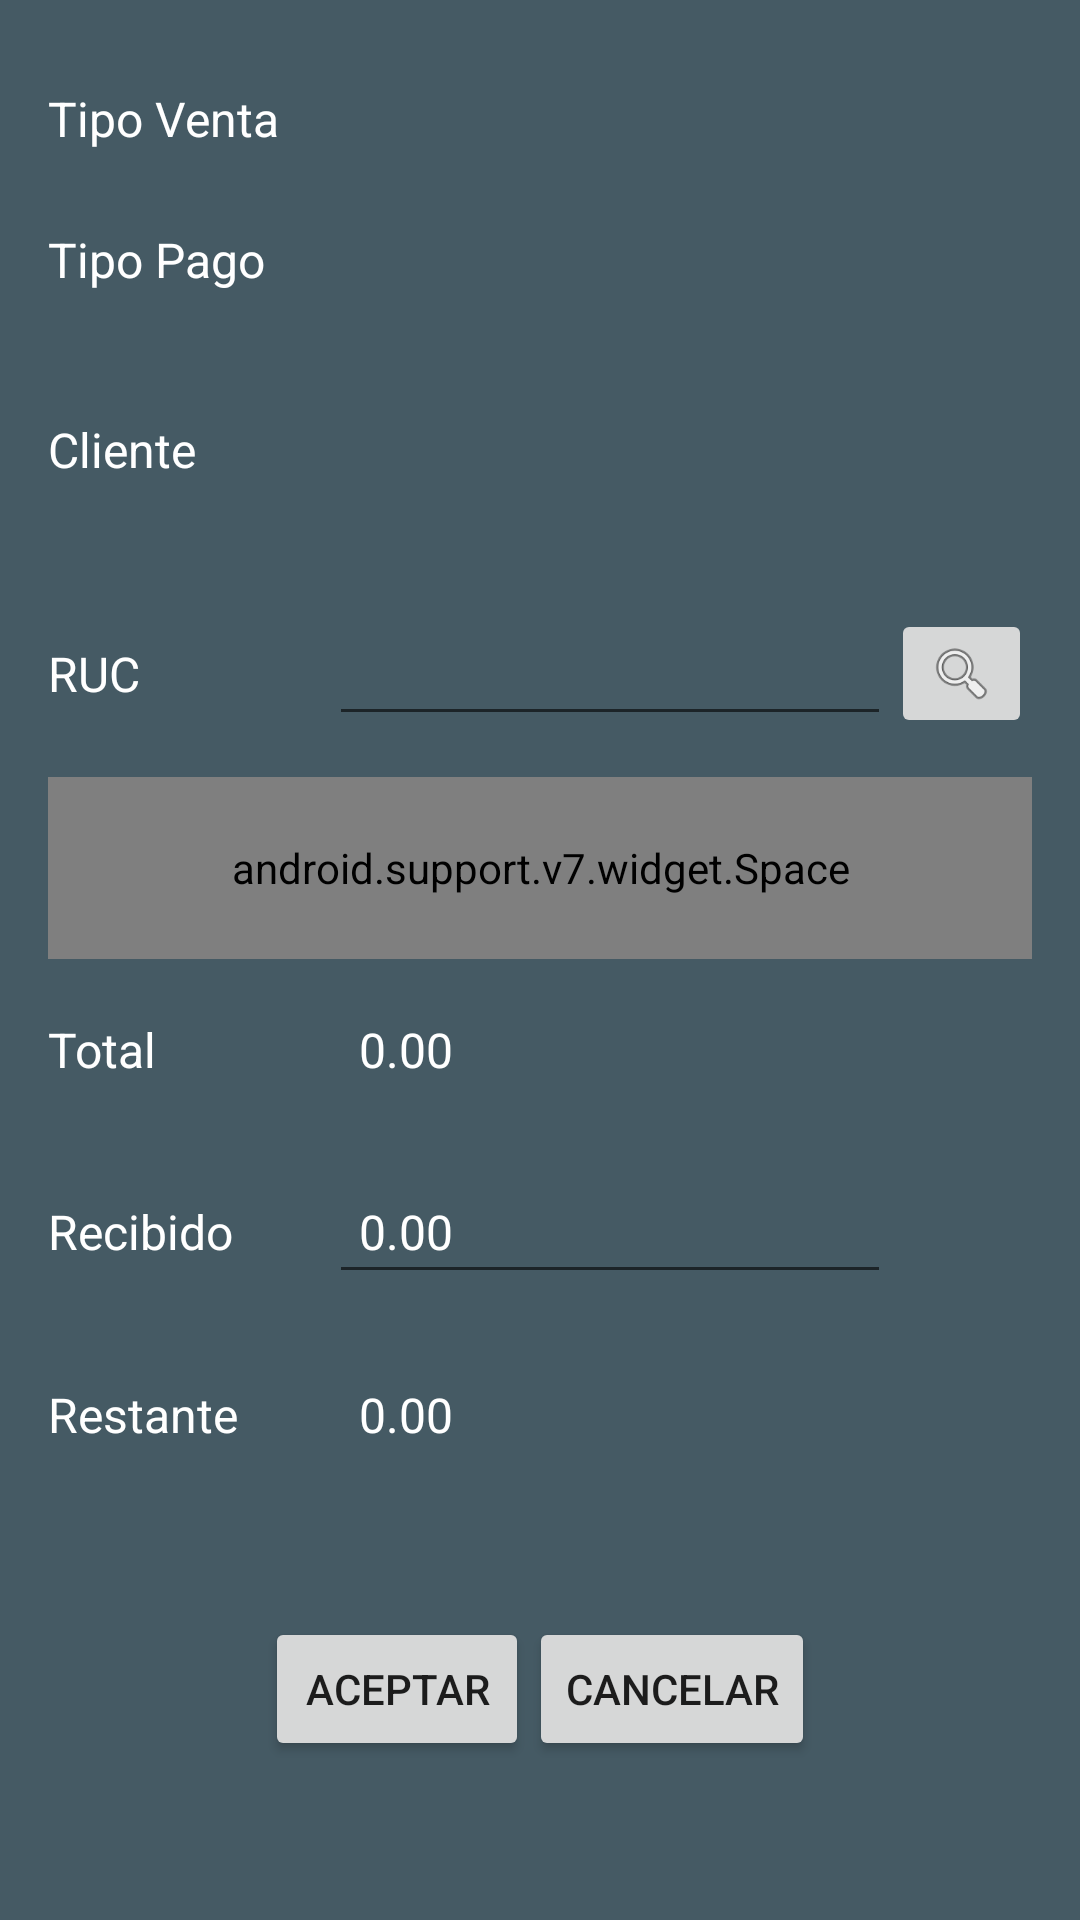

Point at icon controls on the screen. Image size 1080x1920, points as (x,y).
search: (961,673)
